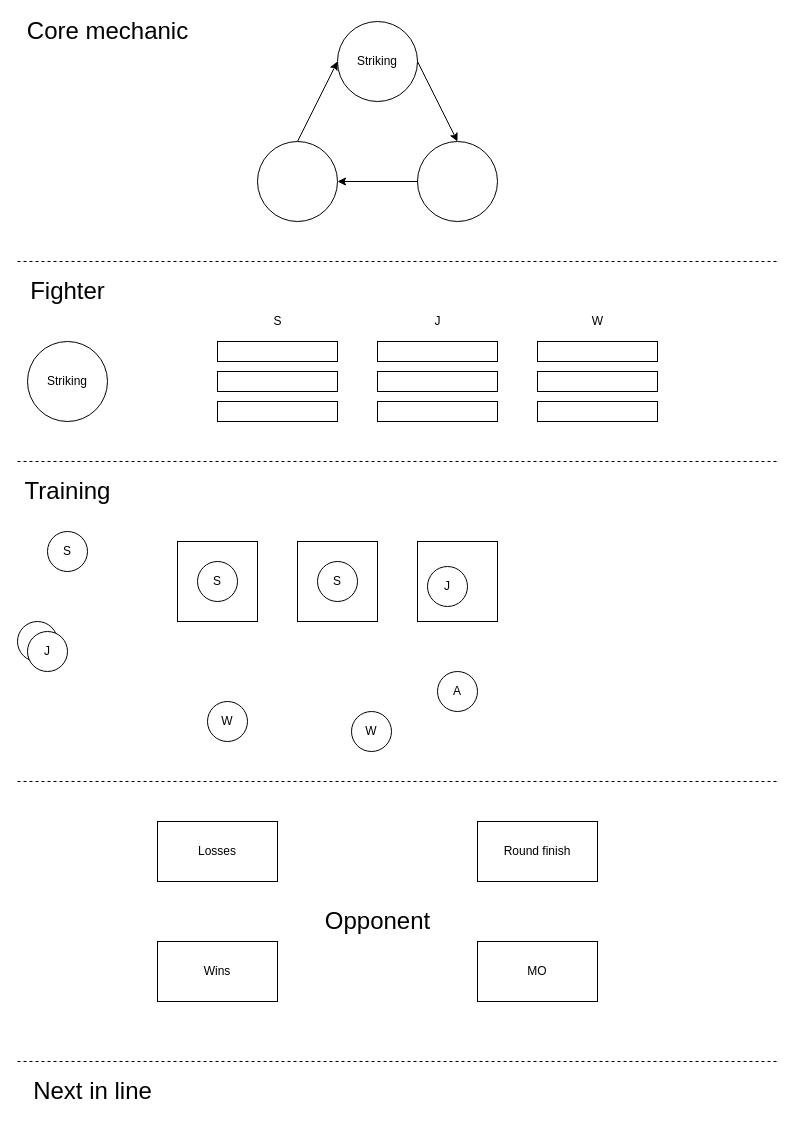
Some shapes in this 796 by 1123 pixel diagram are drawn without their labels. The shapes that lost their labels are listed below. From the top down, each one's box as (x1, y1, x2, y2) in pixels, then its label:
(256, 140, 338, 222): Wrestling
(416, 140, 498, 222): Jiu jitsu
